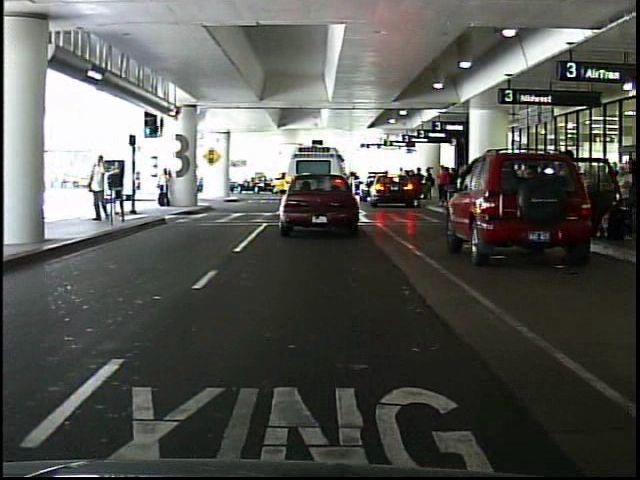person: (87, 152, 113, 227), (110, 156, 127, 218), (155, 167, 174, 210), (436, 165, 452, 205), (196, 165, 210, 204)
